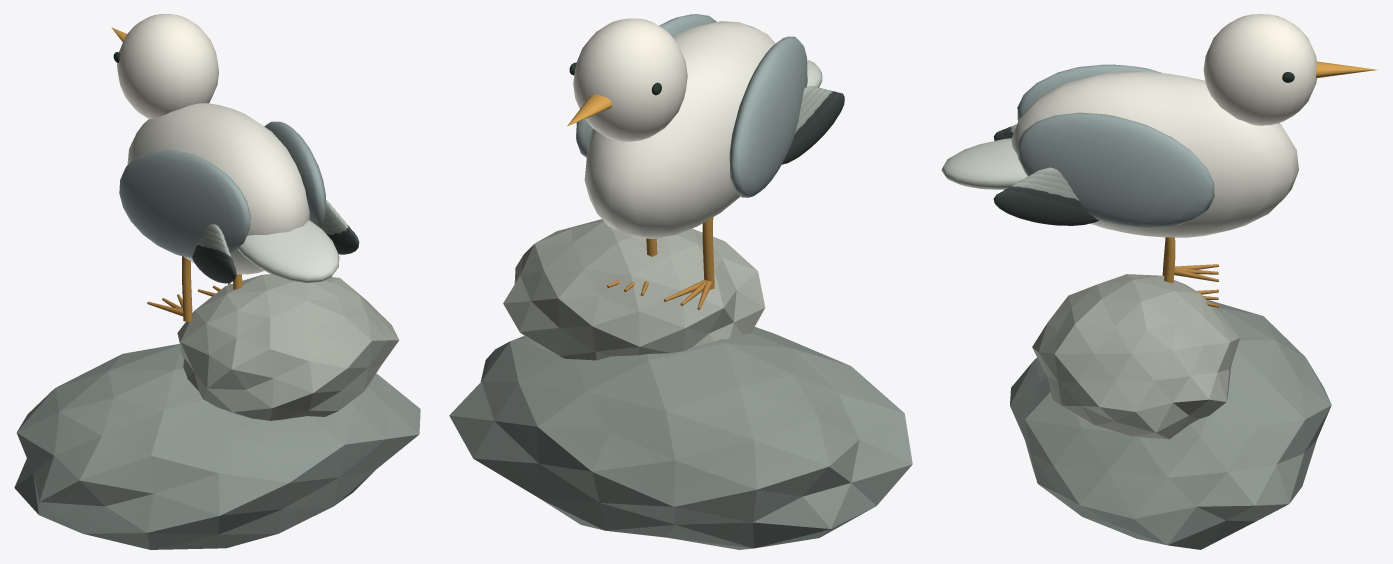
File: seagull.glb
3 views of the same model, side by side, from view 1: azimuth 30°, elevation 25°; view 2: azimuth 150°, elevation 25°; view 3: azimuth 270°, elevation 25° (orthographic). The views are drawn at different scales.
Visible parts, largest first — view 1: seagull-stone, seagull-porcelain, seagull-metal; view 2: seagull-stone, seagull-porcelain, seagull-metal; view 3: seagull-stone, seagull-porcelain, seagull-metal.
Boxes of the visible parts, left/top/right/bottom form: seagull-stone: left=14, top=274, right=420, bottom=549; seagull-porcelain: left=111, top=14, right=359, bottom=283; seagull-metal: left=119, top=121, right=325, bottom=321; seagull-stone: left=449, top=219, right=912, bottom=549; seagull-porcelain: left=567, top=18, right=844, bottom=238; seagull-metal: left=576, top=14, right=807, bottom=309; seagull-stone: left=1010, top=274, right=1331, bottom=549; seagull-porcelain: left=941, top=14, right=1377, bottom=237; seagull-metal: left=1017, top=64, right=1218, bottom=307.
Bounding box in the file's own units: 1.51 × 1.76 × 1.45.
